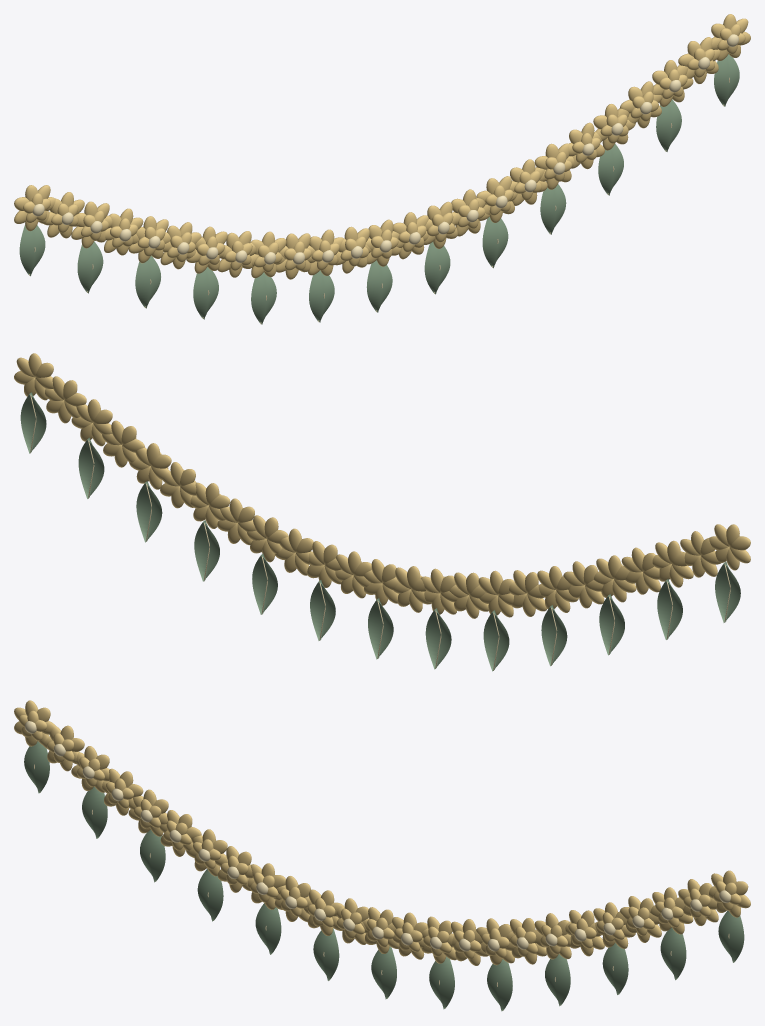
File: marigold-garland.glb
3 renders of one model, top to bottom at view 1: azimuth 30°, elevation 25°; view 2: azimuth 150°, elevation 25°; view 3: azimuth 330°, elevation 25°, orthographic.
Visible parts, largest first — view 1: petals-0, leaf-2, heart-1; view 2: petals-0, leaf-2, vein-3; view 3: petals-0, leaf-2, heart-1.
Part boxes in pixels (left/top/right/bottom): petals-0: left=14, top=14, right=750, bottom=279; leaf-2: left=19, top=54, right=739, bottom=324; heart-1: left=32, top=34, right=738, bottom=264; petals-0: left=14, top=353, right=750, bottom=618; leaf-2: left=20, top=392, right=740, bottom=671; vein-3: left=30, top=395, right=730, bottom=670; petals-0: left=14, top=700, right=750, bottom=965; leaf-2: left=24, top=741, right=744, bottom=1011; heart-1: left=25, top=721, right=730, bottom=951.
Size of the model in its own units: 3.18 by 0.8954 by 0.0919.
